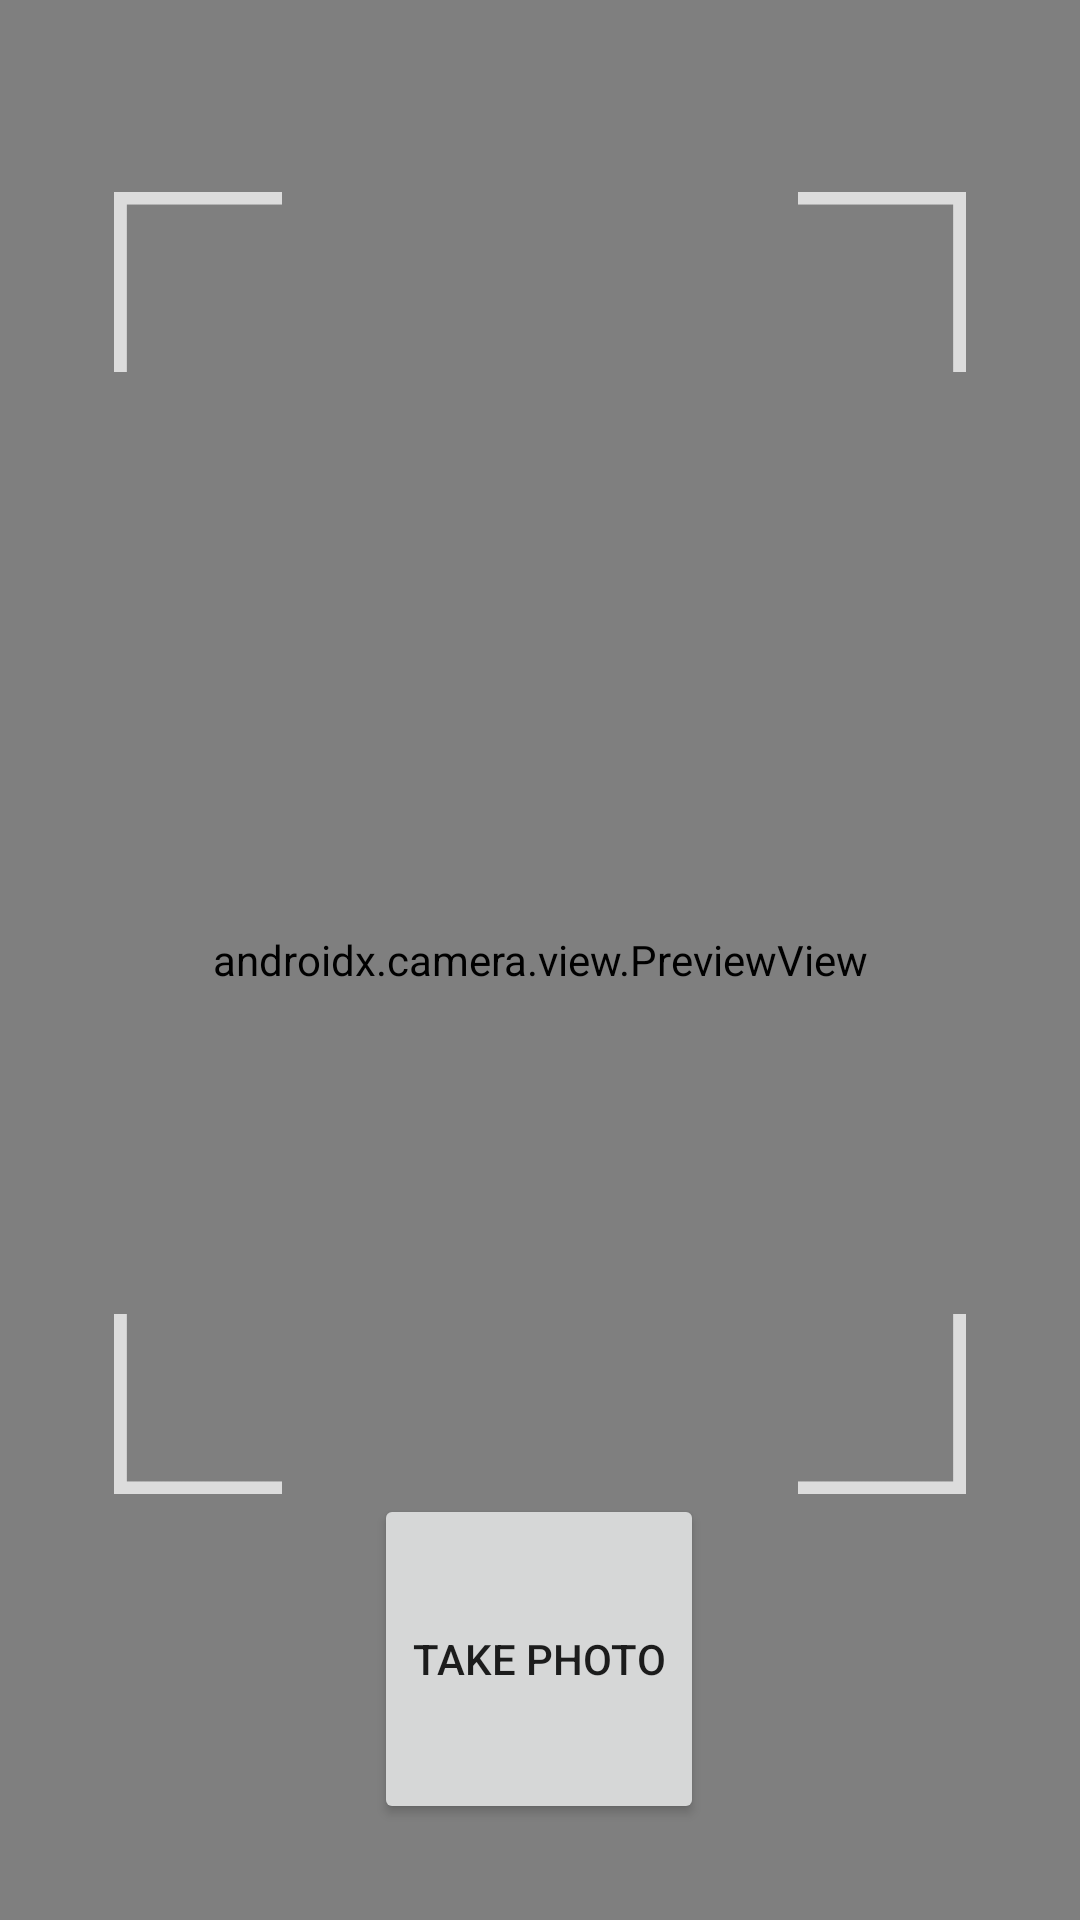

Where to tap for icons on this 1080×1920 app screen, as (x,y):
bottomleft: (198,1404)
bottomright: (882,1404)
topleft: (198,282)
topright: (882,282)
